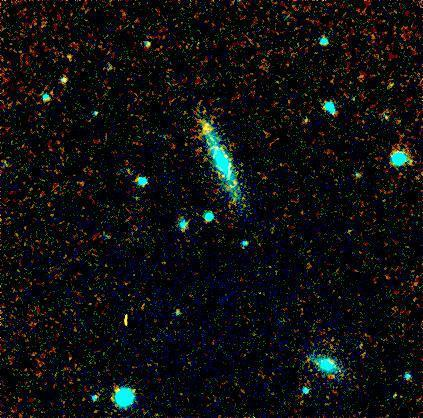star: (194, 113, 224, 143)
